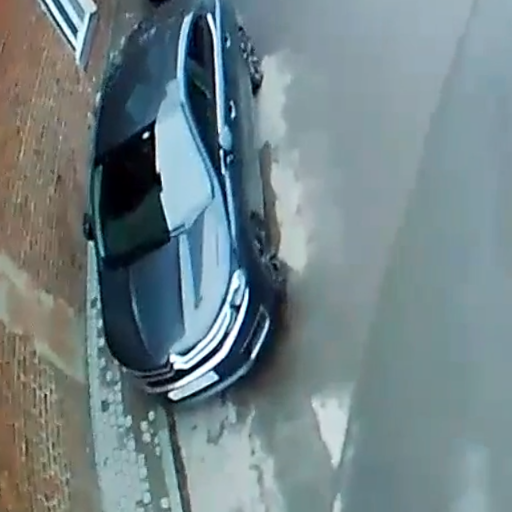Car: (92, 0, 284, 410)
